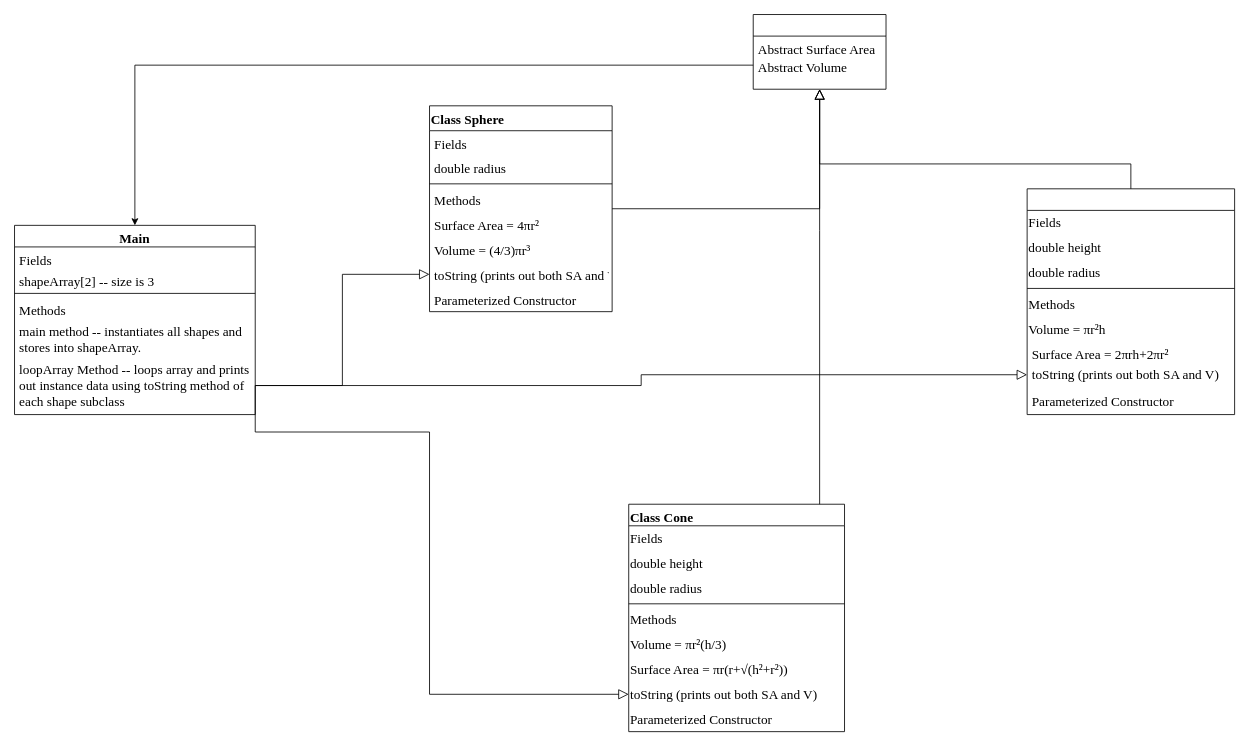
Image size: 1249x746. Some labels were removed from this diagram. The shapes that lost their labels are listed below. From the top down, each one's box as (x1, y1, x2, y2) in pixels, then its label:
(752, 14, 886, 89): Class Abstract Shape
(1026, 188, 1235, 415): Class Cylinder
